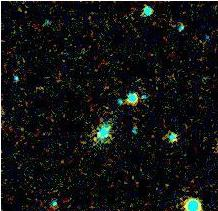star: (79, 123, 109, 153)
